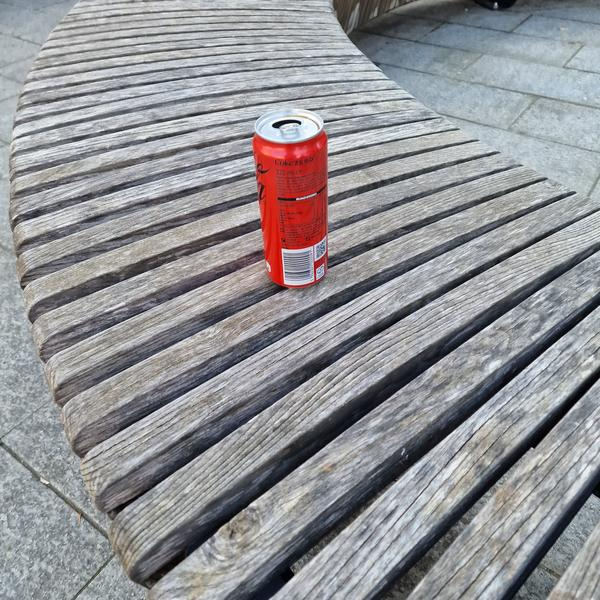can: (250, 104, 331, 291)
